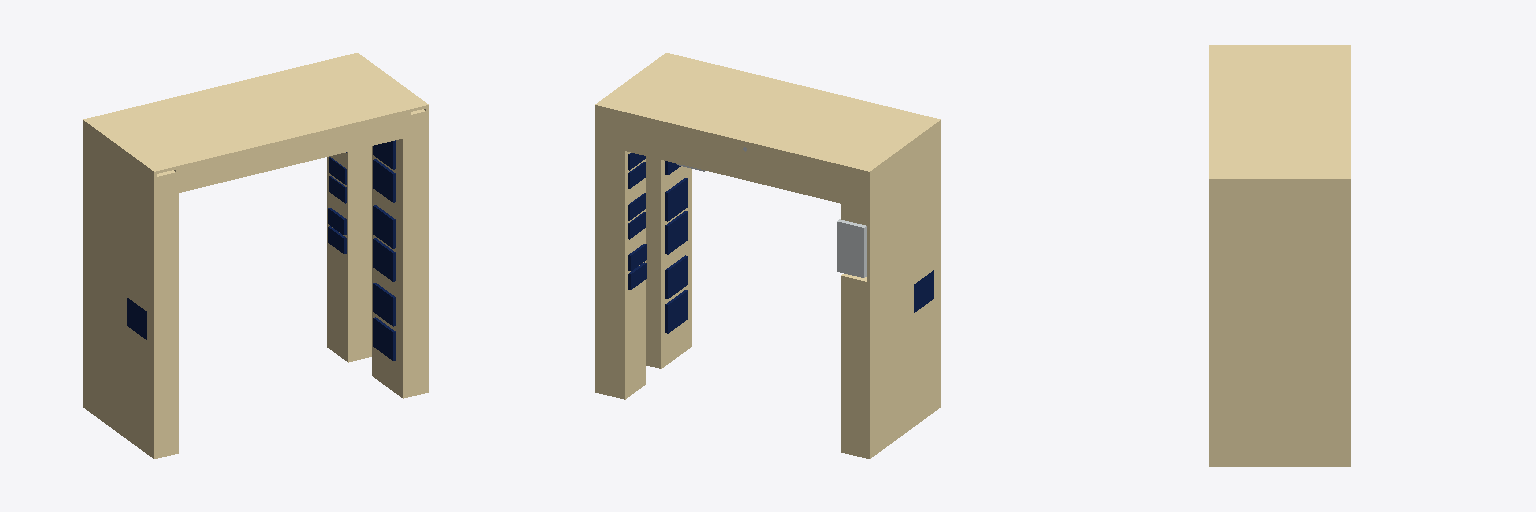
Rendered from tinker.obj.
3 renders of one model, left to right at view 1: azimuth 30°, elevation 25°; view 2: azimuth 150°, elevation 25°; view 3: azimuth 270°, elevation 25°, orthographic.
Parts seen in each view (by area): view 1: obj_0; view 2: obj_0; view 3: obj_0.
Part boxes in pixels (left/top/right/bottom): obj_0: left=83, top=53, right=428, bottom=458; obj_0: left=595, top=53, right=940, bottom=458; obj_0: left=1209, top=45, right=1350, bottom=466.
Bounding box in the file's own units: 200 × 200 × 90.